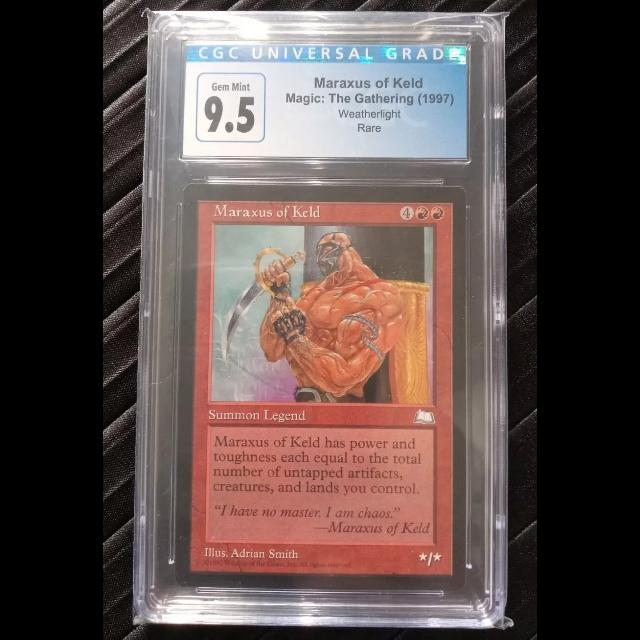card: (174, 182, 467, 593)
cgc_label_old: (182, 43, 468, 159)
cgc_slab: (136, 13, 505, 627)
